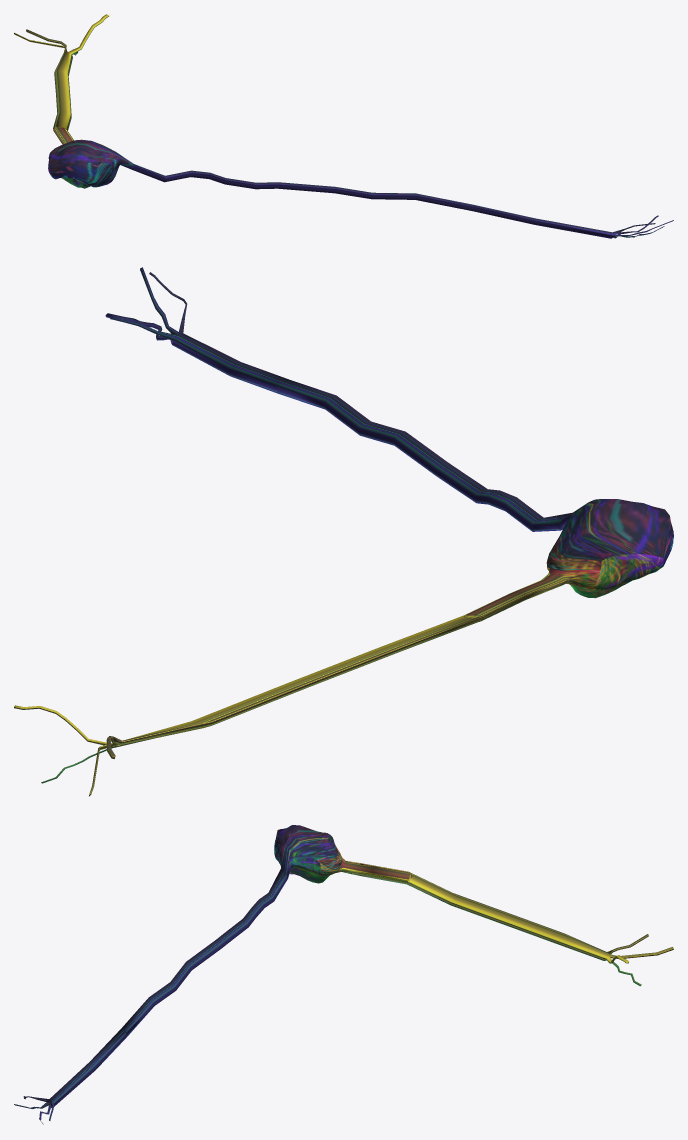
File: lastneuron11.fbx
3 renders of one model, top to bottom at view 1: azimuth 30°, elevation 25°; view 2: azimuth 150°, elevation 25°; view 3: azimuth 270°, elevation 25°, orthographic. The views are drawn at different scales.
Parts seen in each view (by area): view 1: done2 ex; view 2: done2 ex; view 3: done2 ex.
Boxes of the visible parts, x1,y1,x2,y2 form: done2 ex: (14, 14, 673, 238); done2 ex: (14, 267, 673, 796); done2 ex: (14, 825, 673, 1124).
Size of the model in its own units: 66305 by 13000 by 83498.
